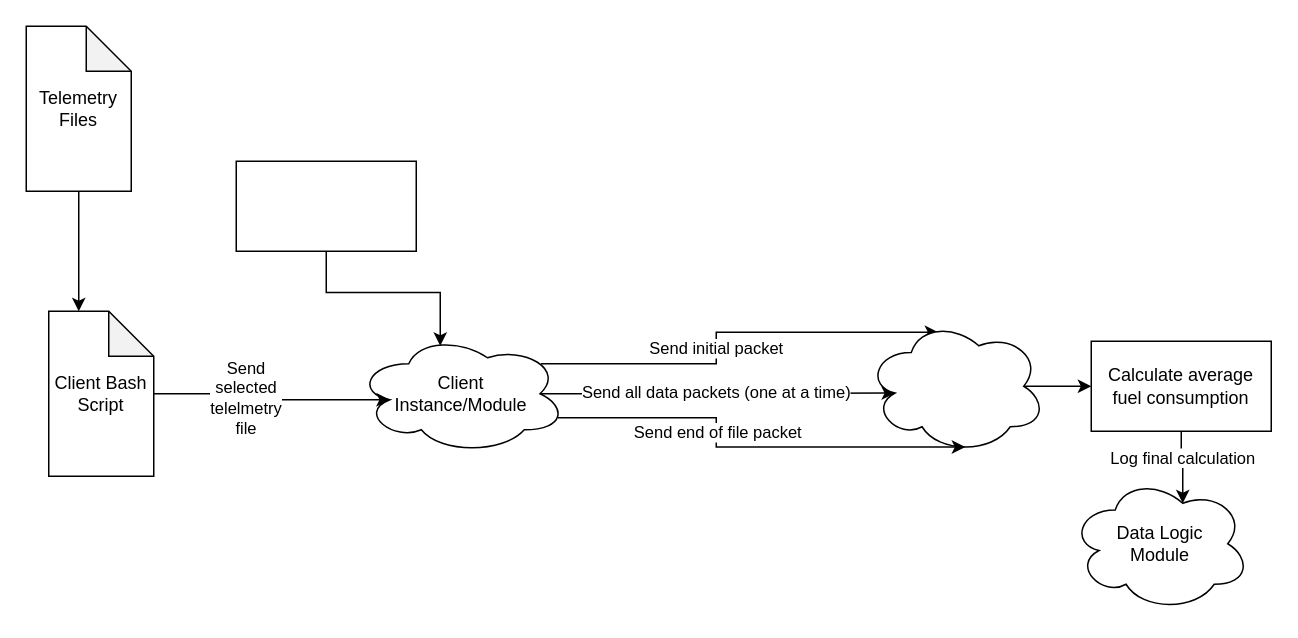
The diagram is 1298 pixels wide and 638 high, and some of its shapes have lost their labels. Here are the shapes that lost their labels. From the top down, the centre of each, then its label:
At point (325, 205): "Unique ID".
At point (955, 385): "Server Module".
